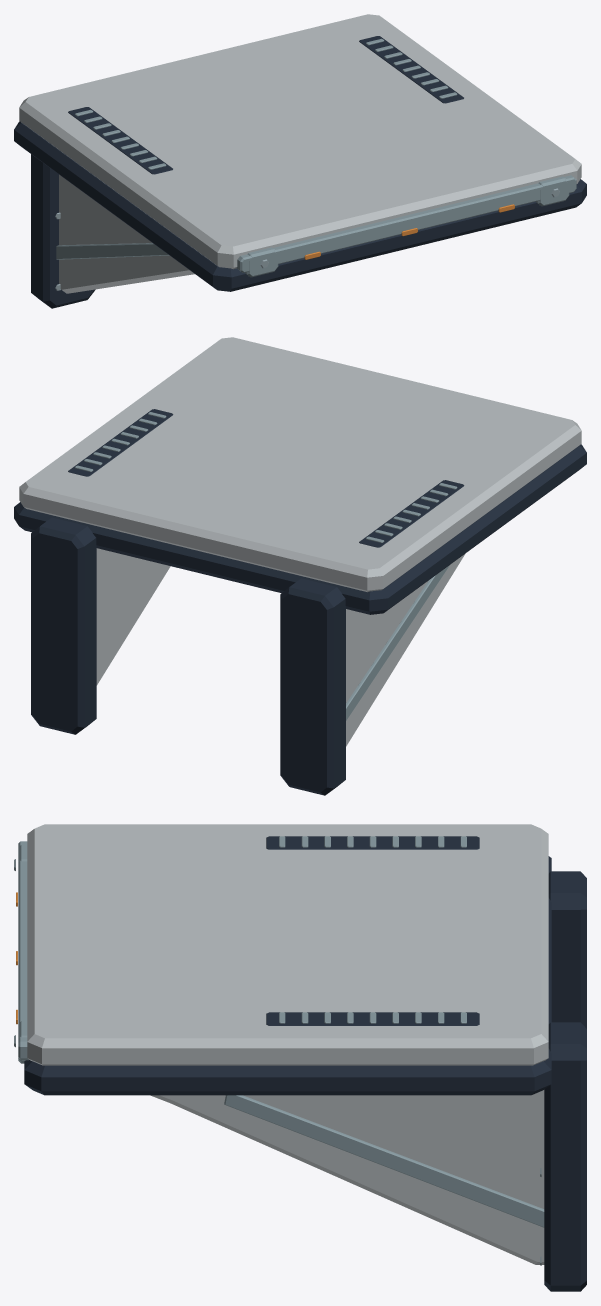
Rendered from facade_turret_platform.glb.
3 views of the same model, one above another, from view 1: azimuth 30°, elevation 25°; view 2: azimuth 150°, elevation 25°; view 3: azimuth 270°, elevation 25° (orthographic). The views are drawn at different scales.
Visible parts, largest first — view 1: facade_turret_platform; view 2: facade_turret_platform; view 3: facade_turret_platform.
Boxes of the visible parts, x1,y1,x2,y2 form: facade_turret_platform: [14, 14, 586, 308]; facade_turret_platform: [14, 337, 586, 795]; facade_turret_platform: [14, 824, 586, 1291].
Bounding box in the file's own units: 3.78 × 2.15 × 4.04.
